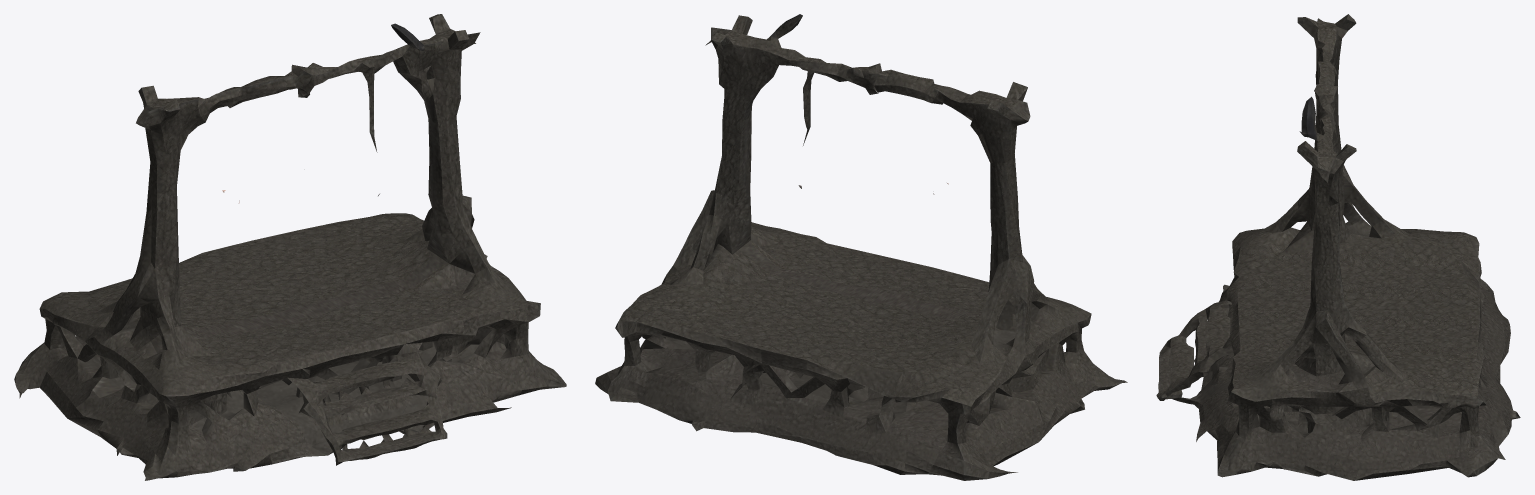
File: b3-gallows.glb
The picture shows the model from 3 angles, left to right: view 1: azimuth 30°, elevation 25°; view 2: azimuth 150°, elevation 25°; view 3: azimuth 270°, elevation 25°; orthographic projection. The views are drawn at different scales.
Size of the model in its own units: 1.79 by 1.4 by 1.43.
Materials: 1 (1 with a texture image).
